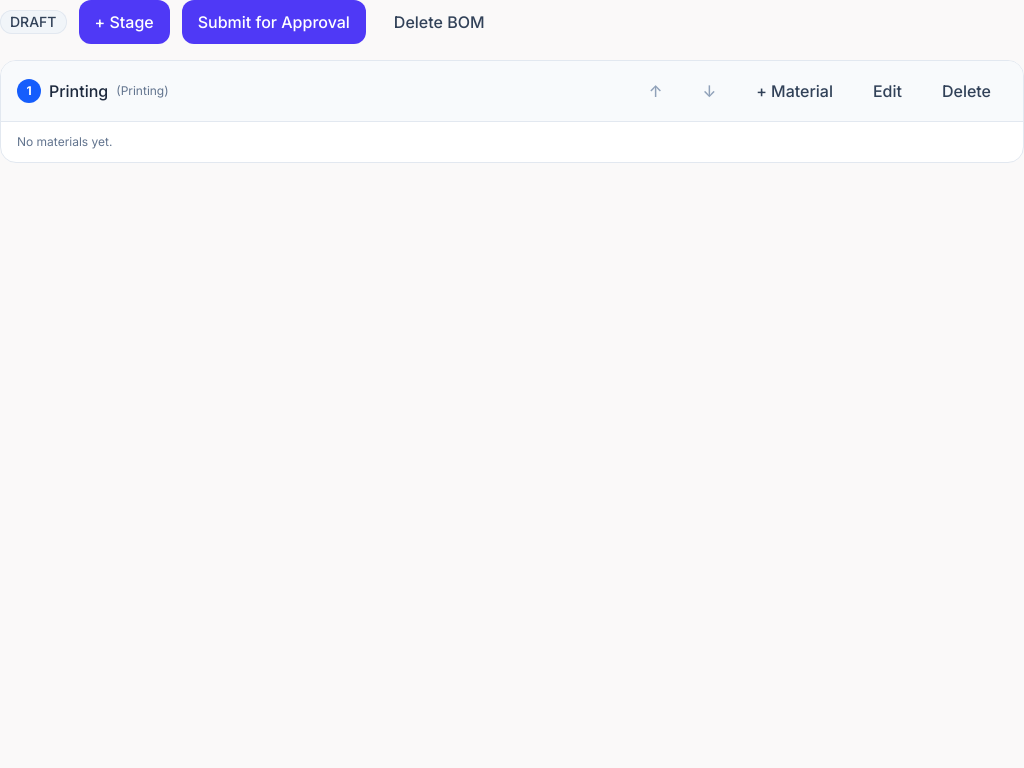
Test case: R2-70 BOM stage picker › R2-126: stage process is a searchable combobox, picking sets the stage name
Click the button "+ Stage": (124, 22) [78,0,170,44]
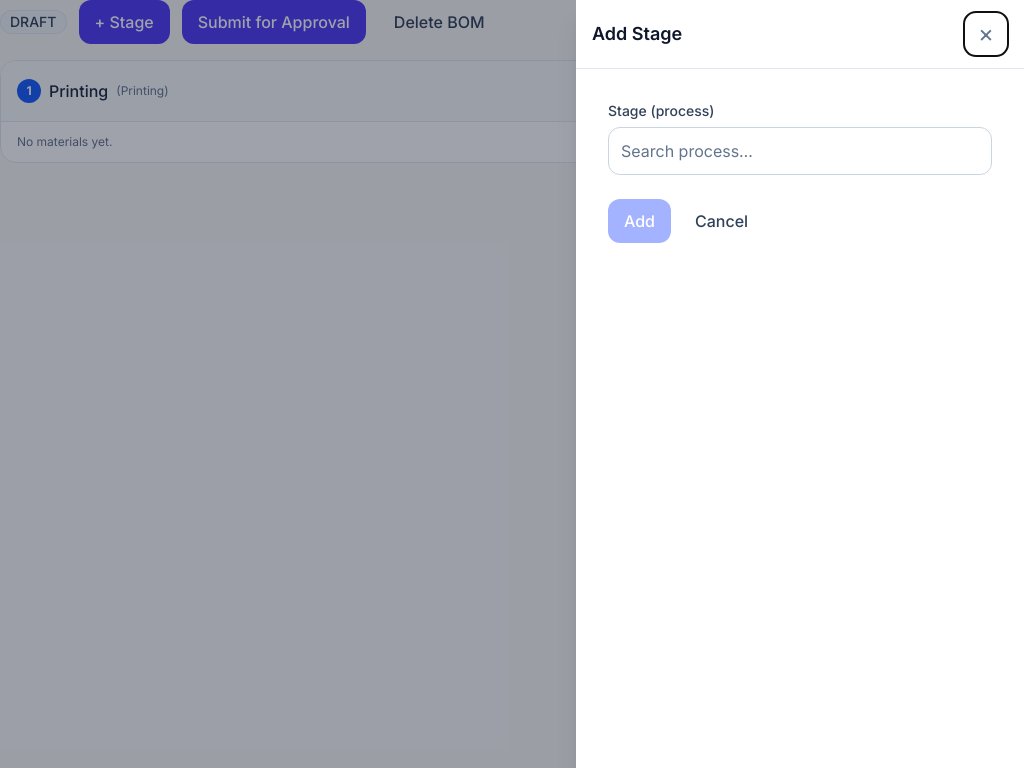
In the dropdown labelled "Stage (process)": (800, 151) [608,127,992,175], type "die"
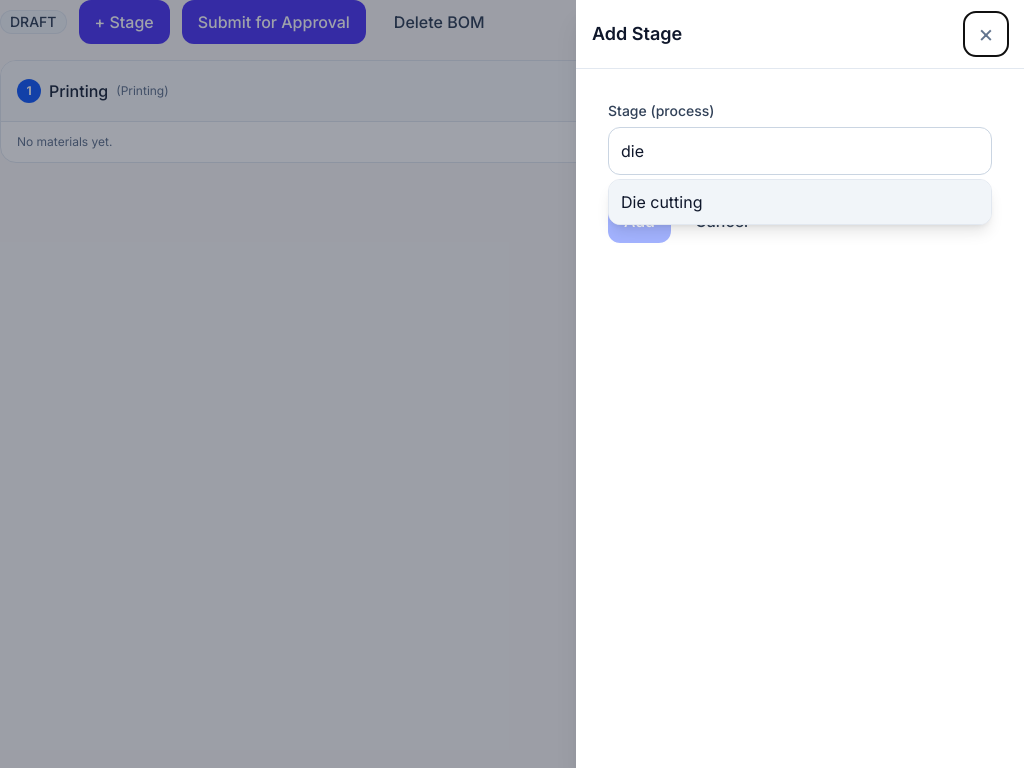
Press the mouse on the option "Die cutting": (662, 202) [609,180,991,224]
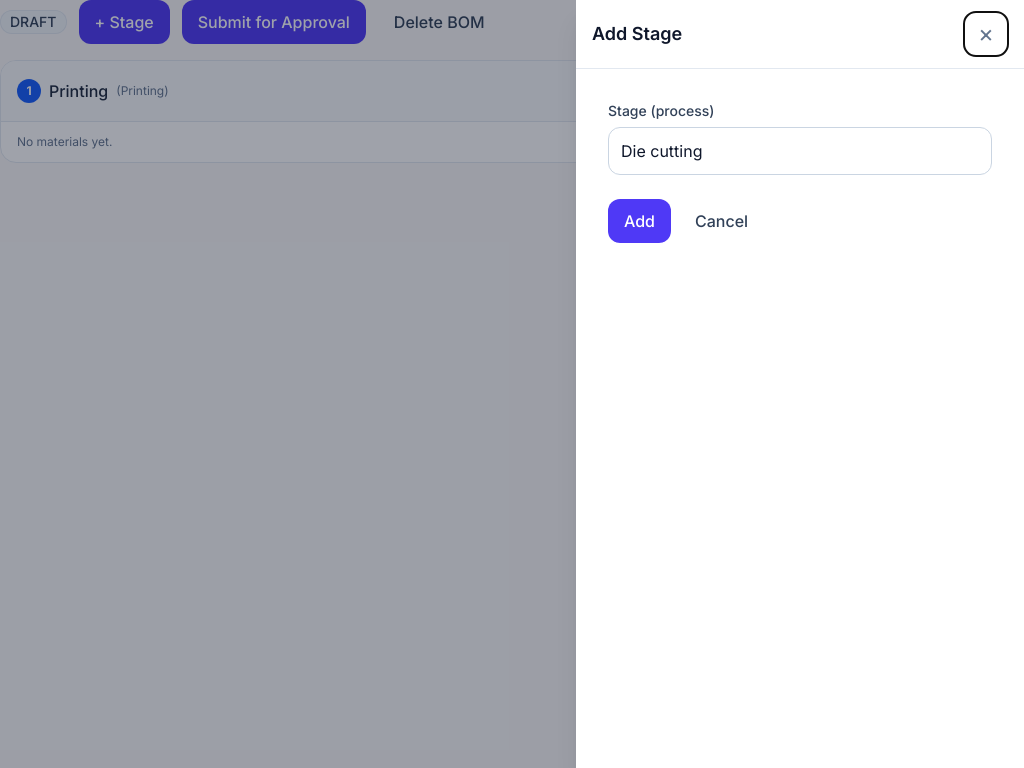
Check: the dropdown labelled "Stage (process)" holds "Die cutting", box [608,127,992,175]
